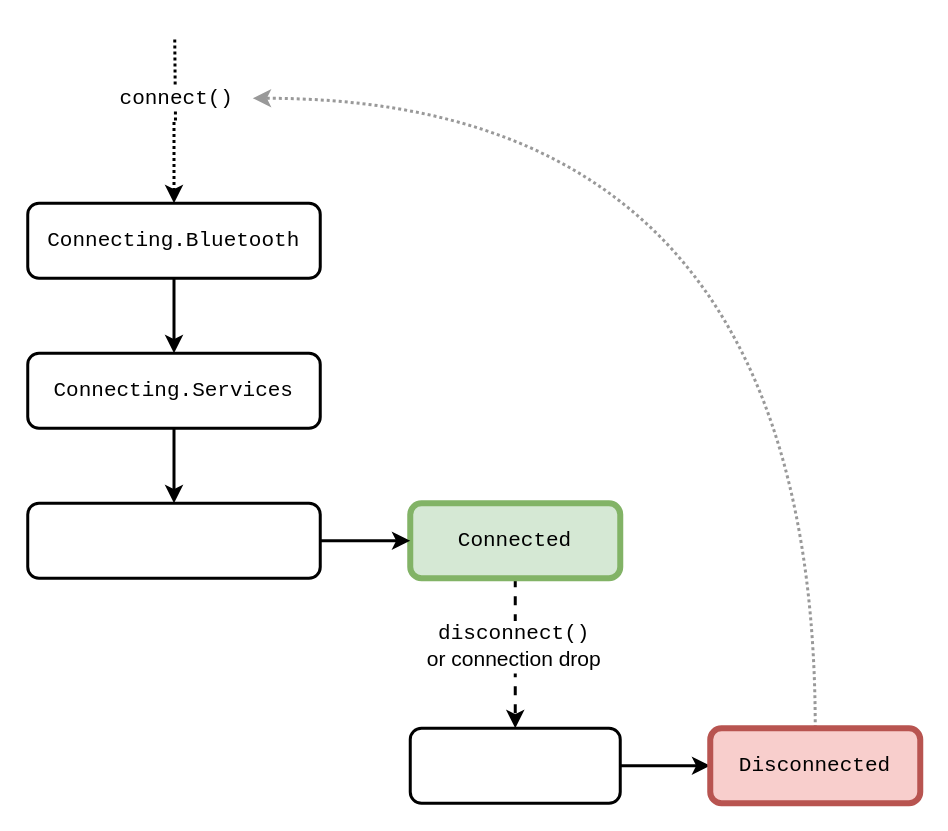
Image size: 948x831. Some labels were removed from this diagram. The centre of each missing label's shape, as x and y in pixels:
Connecting.Observes: the point at 173,540
Disconnecting: the point at 514,765
